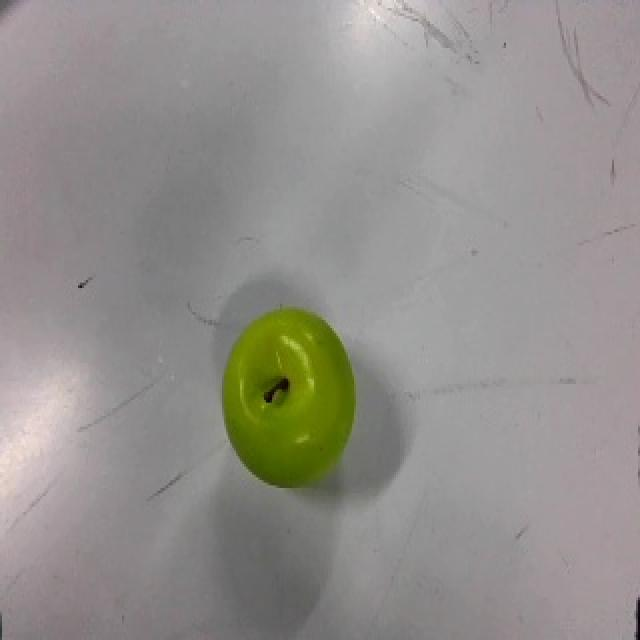apple: (220, 304, 357, 490)
